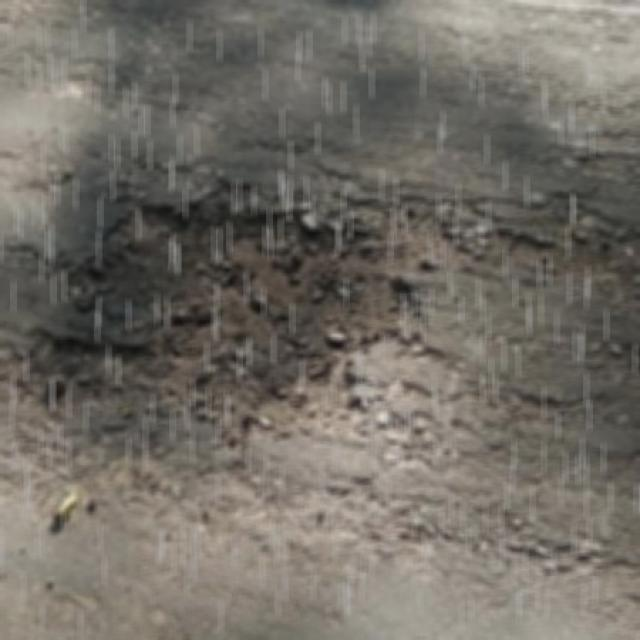road-pothole: (0, 182, 429, 524)
